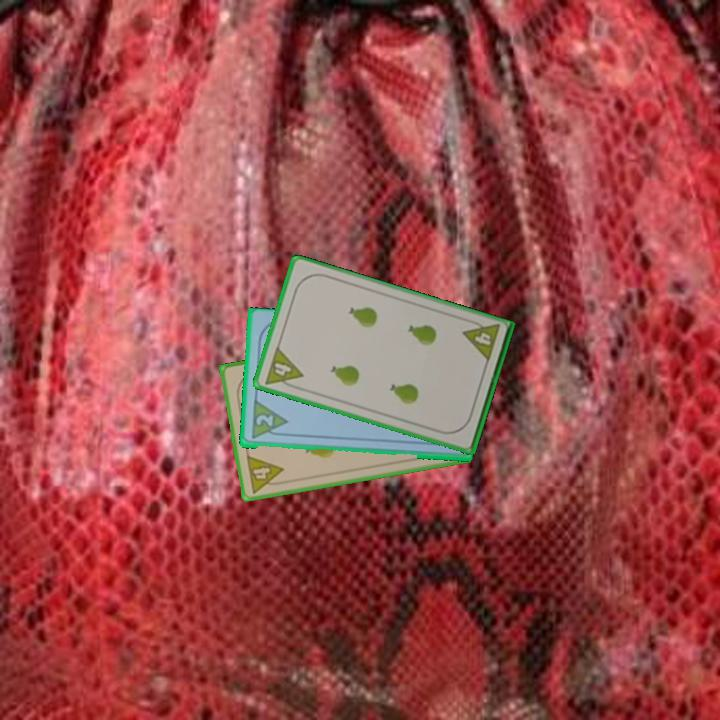2p: (252, 411, 276, 431)
4p: (261, 343, 306, 393), (459, 316, 503, 365), (243, 452, 288, 496)
